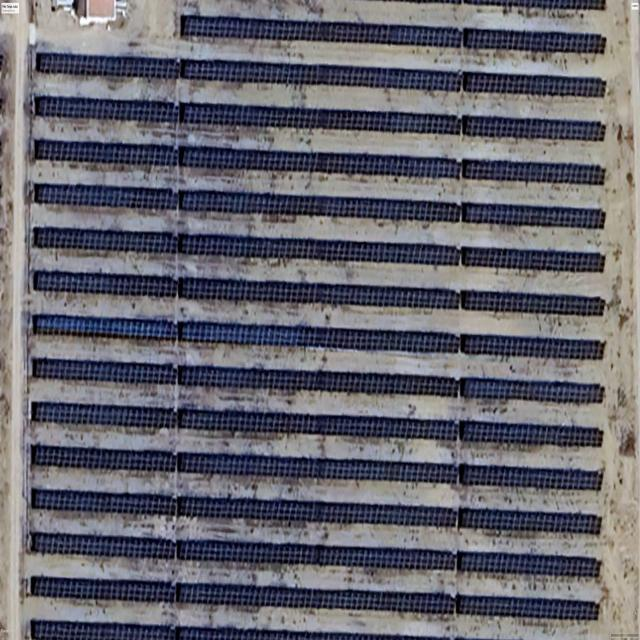Solar Panels: (30, 357, 604, 405), (32, 314, 605, 361), (30, 444, 603, 491), (34, 139, 606, 186), (31, 401, 603, 448), (30, 488, 602, 535), (30, 531, 601, 578), (34, 96, 606, 142), (33, 270, 605, 316), (35, 52, 606, 98), (36, 227, 605, 273), (34, 184, 605, 229), (30, 576, 599, 621), (180, 15, 606, 54), (30, 619, 448, 640)
